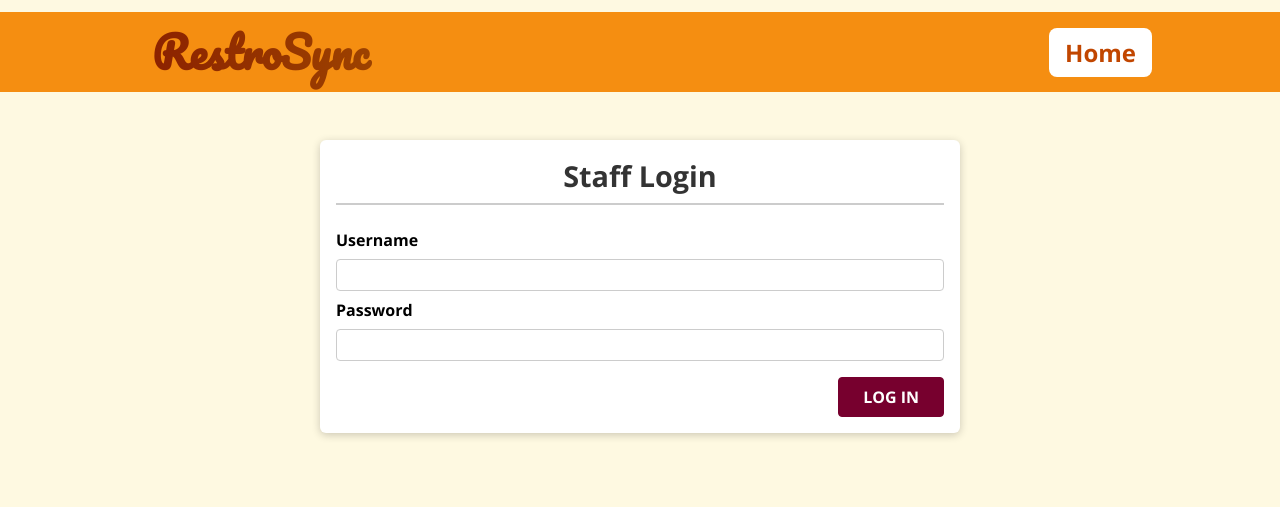
it: User Login › should handle server error gracefully
Enter valid login details
Type "owner_john" into the field with id "userId" at x=640, y=275, box x1=336 y1=259 x2=944 y2=291
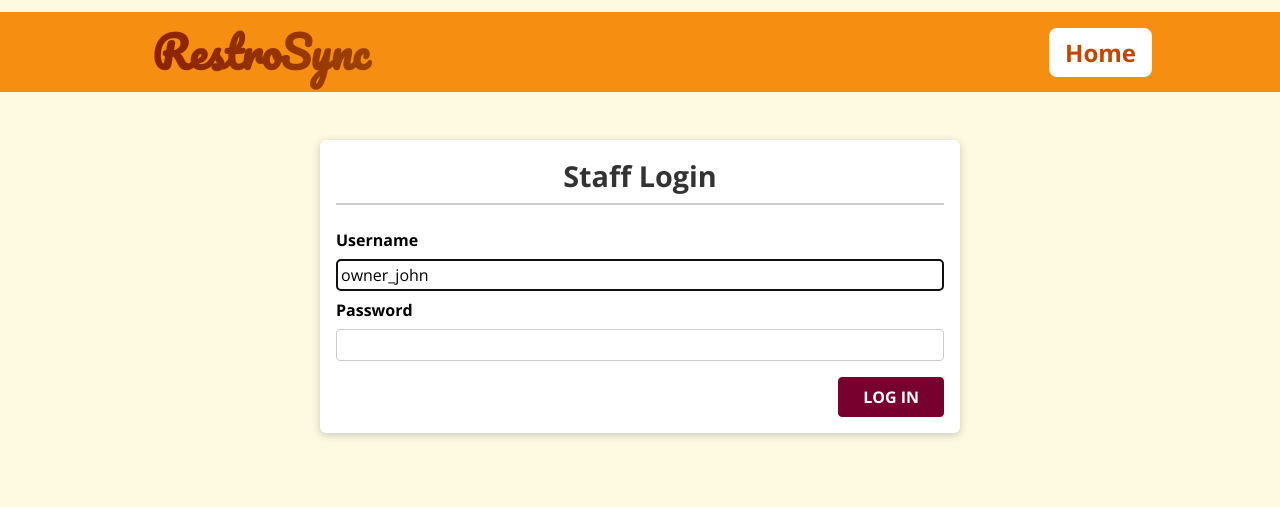
Type "password123" into the password field labelled "Password" at x=640, y=345, box x1=336 y1=329 x2=944 y2=361
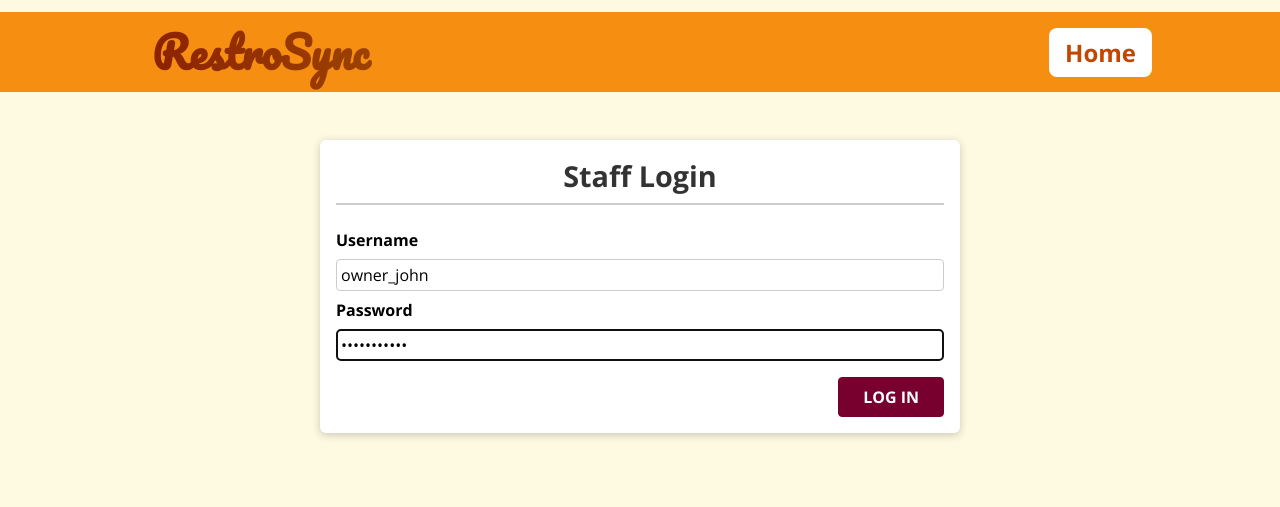
Click the button "LOG IN" at x=891, y=397, box x1=838 y1=377 x2=944 y2=417
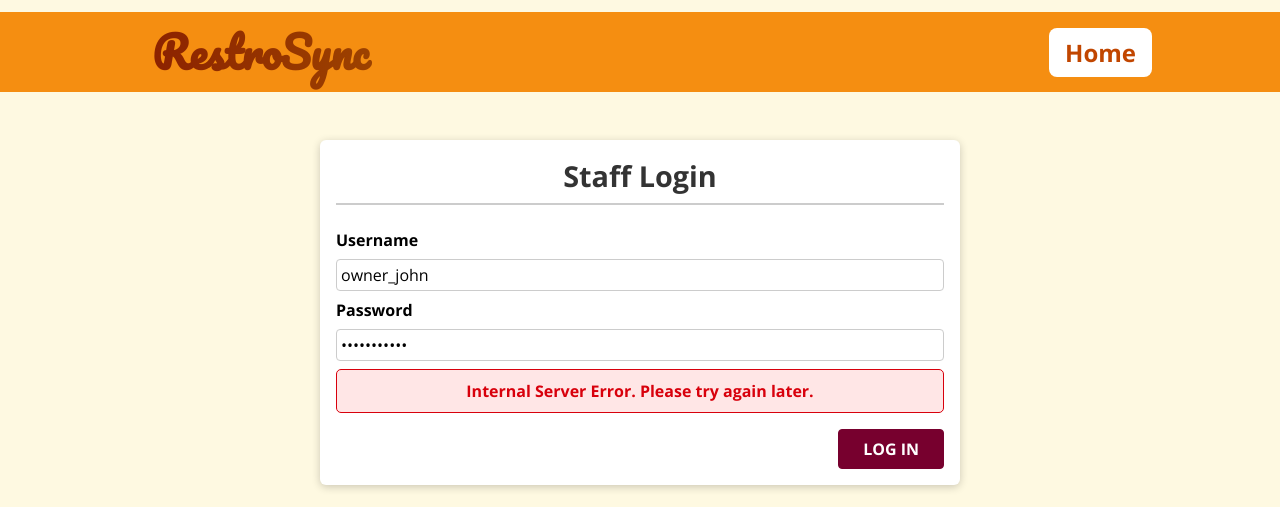
Now the text "Internal Server Error. Please try again later." is shown, box x1=336 y1=369 x2=944 y2=413
